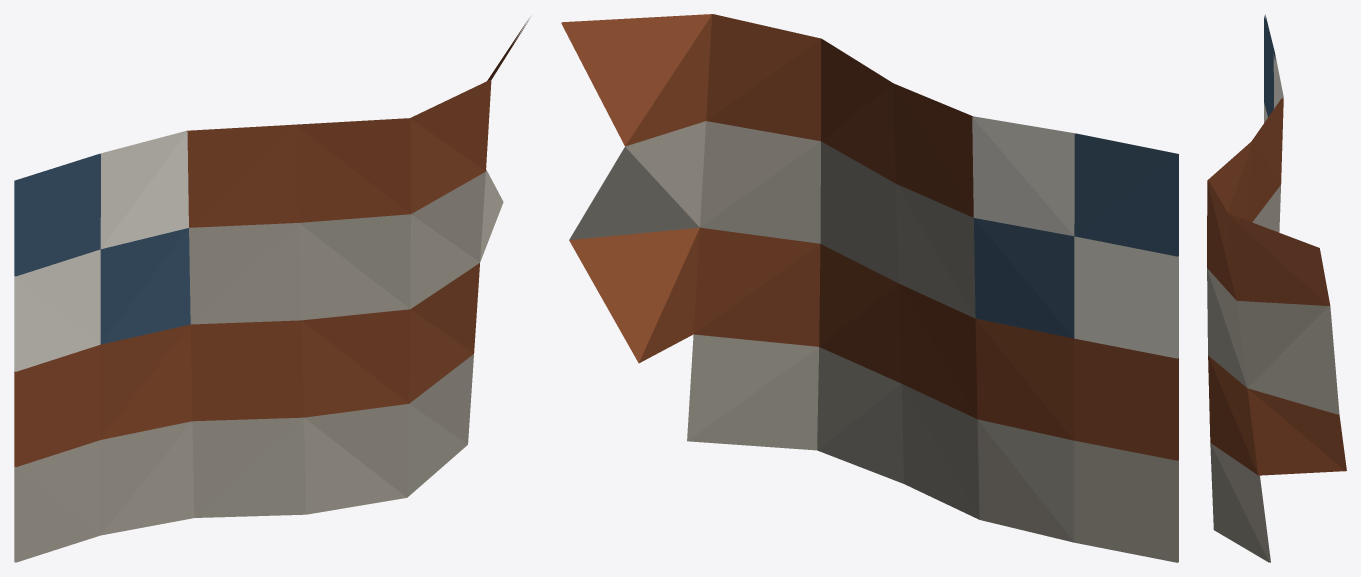
File: flag_torn_f0.glb
The picture shows the model from 3 angles, left to right: view 1: azimuth 30°, elevation 25°; view 2: azimuth 150°, elevation 25°; view 3: azimuth 270°, elevation 25°; orthographic projection. The views are drawn at different scales.
Parts seen in each view (by area): view 1: flag_torn_f0; view 2: flag_torn_f0; view 3: flag_torn_f0.
Boxes of the visible parts, x1,y1,x2,y2 form: flag_torn_f0: (14, 19, 529, 562); flag_torn_f0: (561, 14, 1178, 562); flag_torn_f0: (1207, 14, 1346, 562).
Size of the model in its own units: 1.5 by 1.04 by 0.3629.
3 materials, 3 textured.
